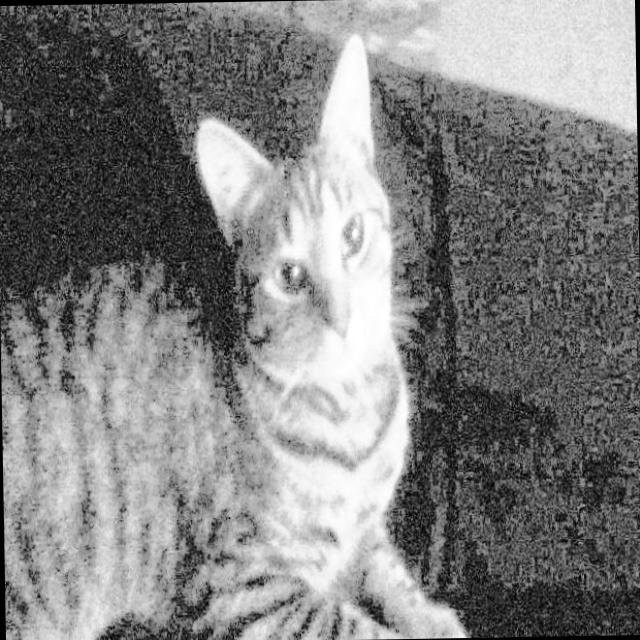Cat: (0, 19, 458, 640)
